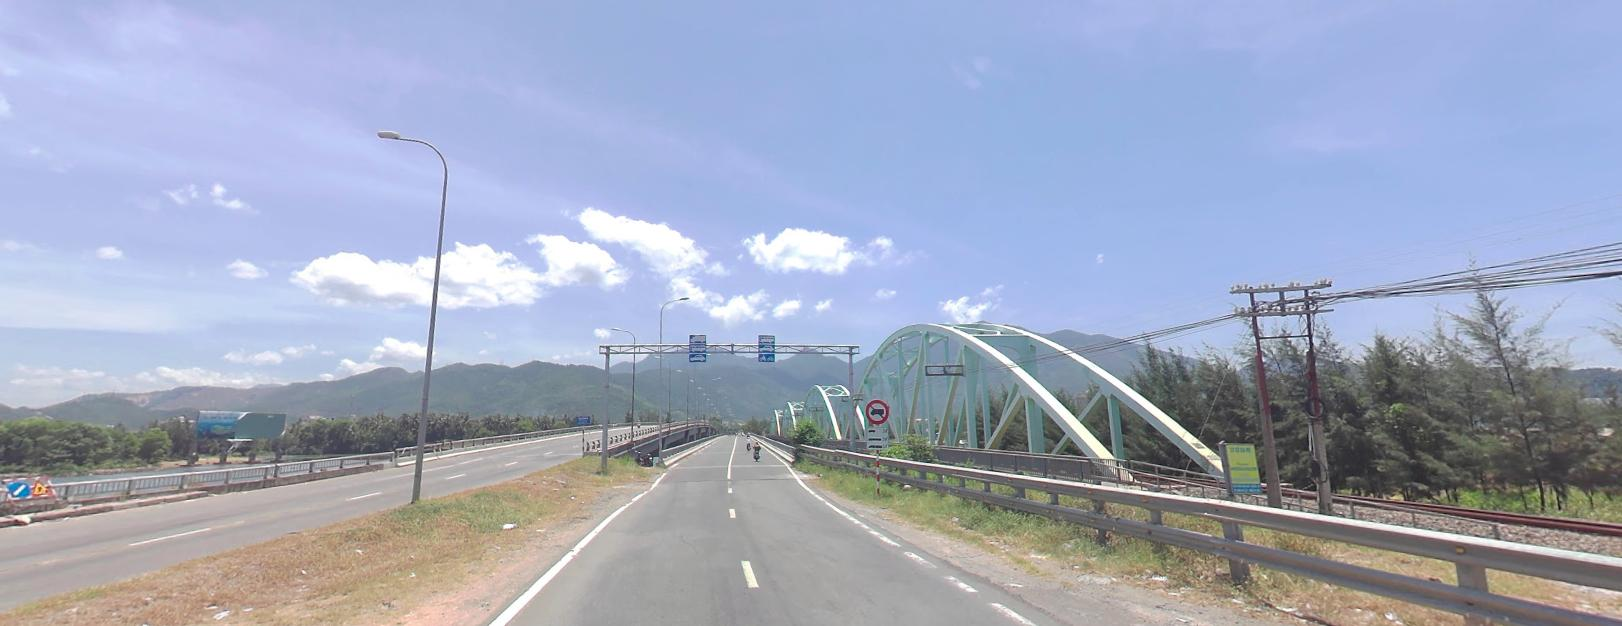Cam con lai: (863, 397, 890, 422)
Hieu lenh: (6, 482, 28, 496)
Nguy hiem: (32, 480, 50, 497)
